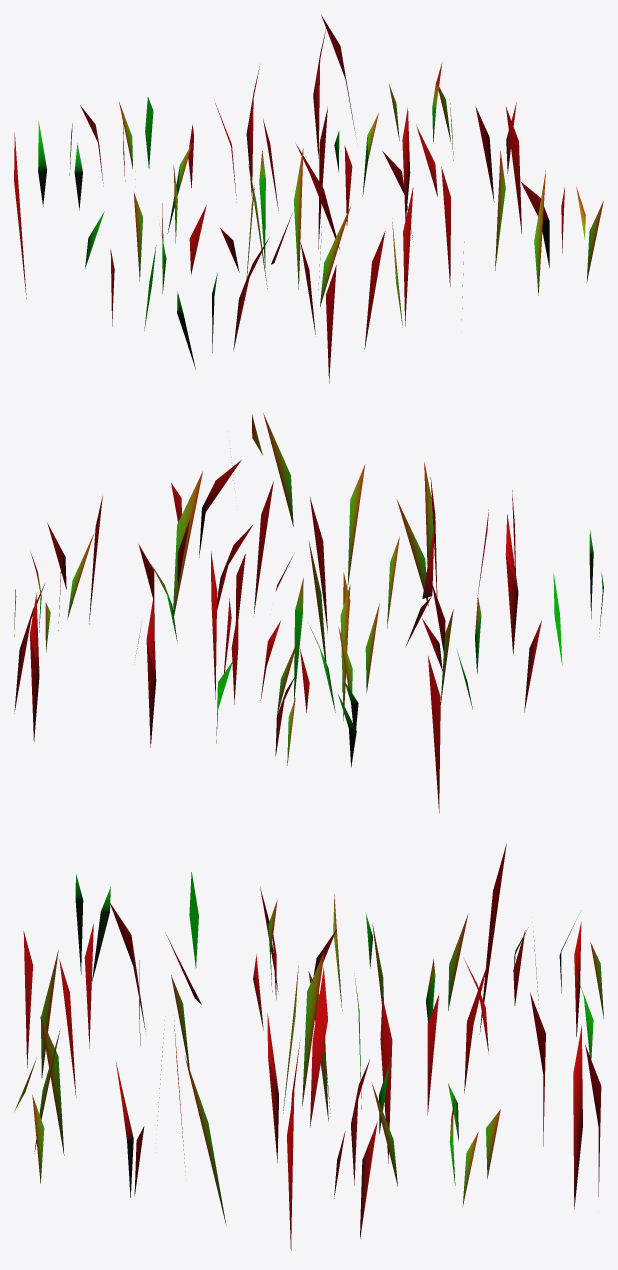
File: mesh_dsj_grass_lod7.fbx
The picture shows the model from 3 angles, top to bottom: view 1: azimuth 30°, elevation 25°; view 2: azimuth 150°, elevation 25°; view 3: azimuth 270°, elevation 25°; orthographic projection. The views are drawn at different scales.
Parts seen in each view (by area): view 1: mesh_dsj_grass_lod05; view 2: mesh_dsj_grass_lod05; view 3: mesh_dsj_grass_lod05.
Part boxes in pixels (x1,y1,x2,y2): mesh_dsj_grass_lod05: [14, 15, 603, 383]; mesh_dsj_grass_lod05: [14, 413, 603, 812]; mesh_dsj_grass_lod05: [14, 844, 603, 1250].
Size of the model in its own units: 3.43 by 1.31 by 3.31.
